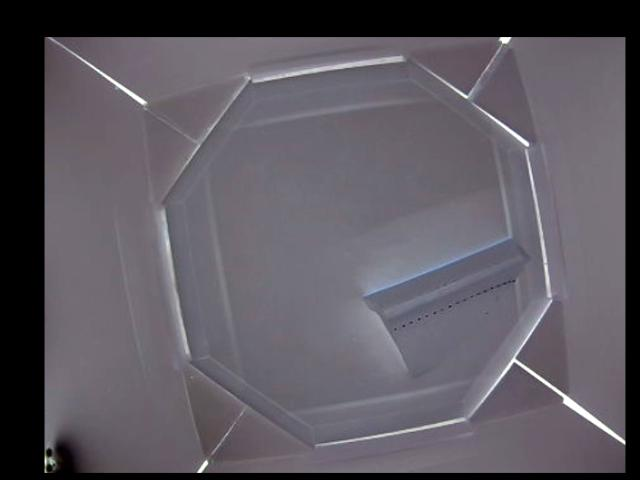China: (365, 239, 531, 375)
